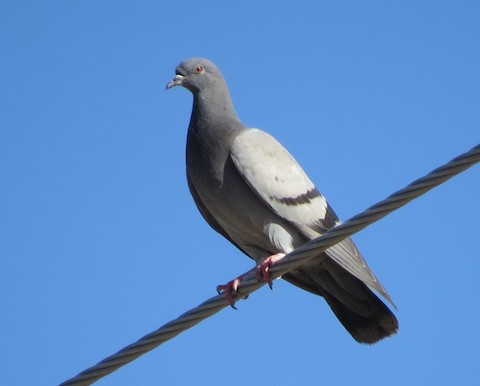pigeon: (160, 50, 410, 348)
